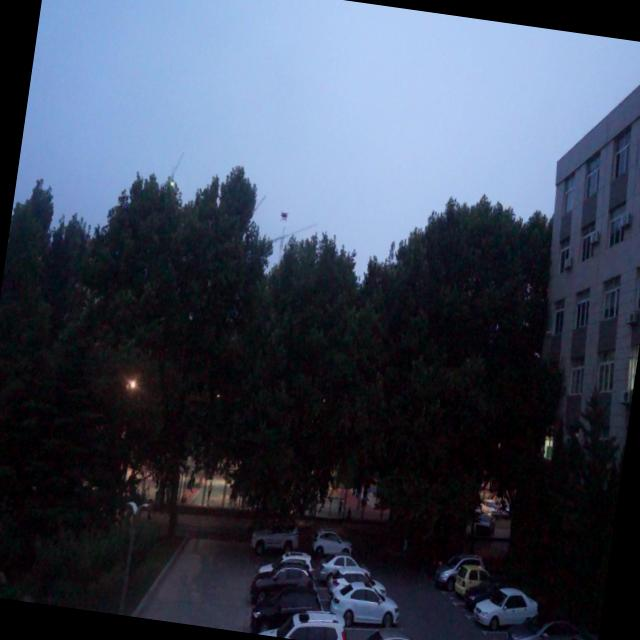drone: (278, 208, 290, 224)
